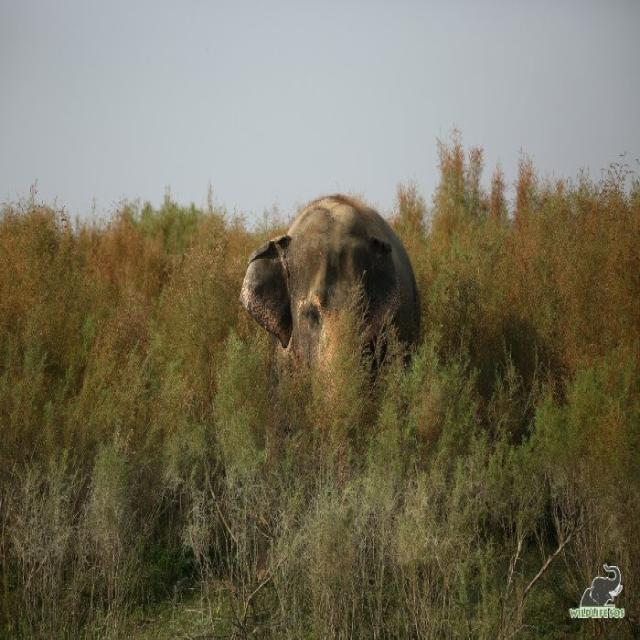Elephant: (230, 172, 430, 445)
